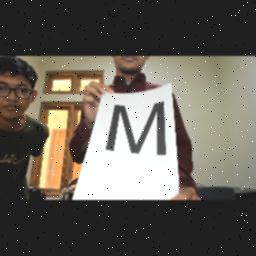m: (104, 100, 172, 160)
